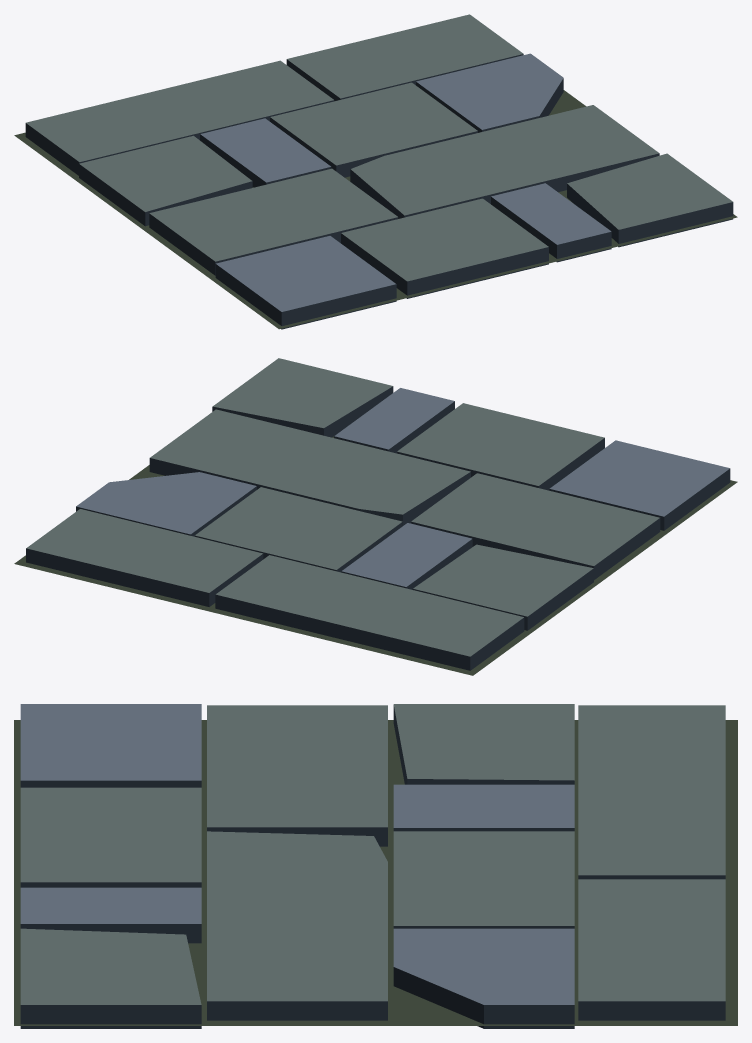
The model's file is Environment_Floor_1.fbx.
3 views of the same model, one above another, from view 1: azimuth 30°, elevation 25°; view 2: azimuth 150°, elevation 25°; view 3: azimuth 270°, elevation 25° (orthographic). The views are drawn at different scales.
Visible parts, largest first — view 1: Floor_1; view 2: Floor_1; view 3: Floor_1.
Part boxes in pixels (x1,y1,x2,y2): Floor_1: (14, 14, 737, 329); Floor_1: (14, 358, 737, 675); Floor_1: (14, 704, 737, 1028).
Size of the model in its own units: 400 by 14.56 by 400.
